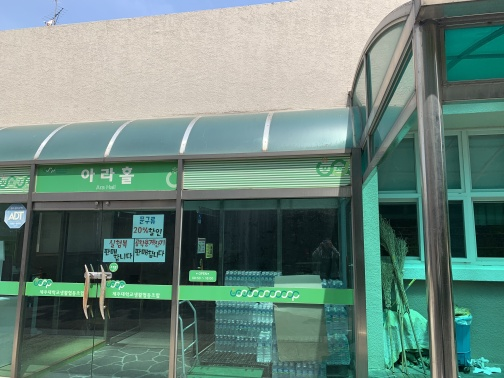Ara Hall: (3, 43, 502, 365)
